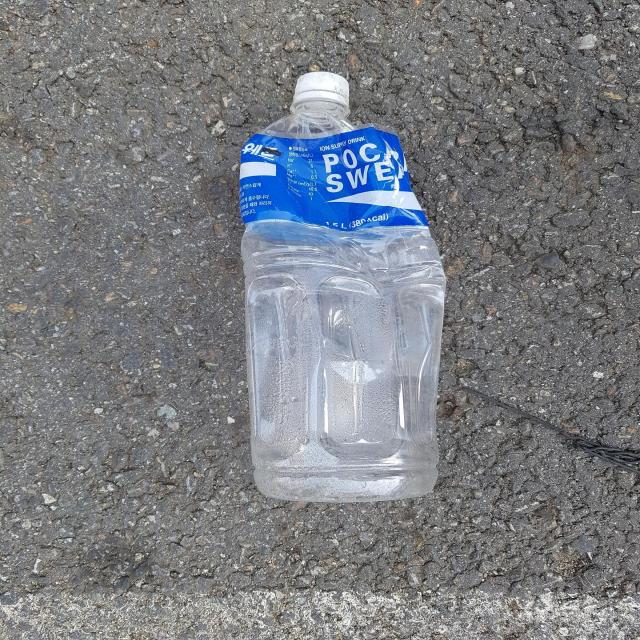plastic: (239, 71, 446, 503)
